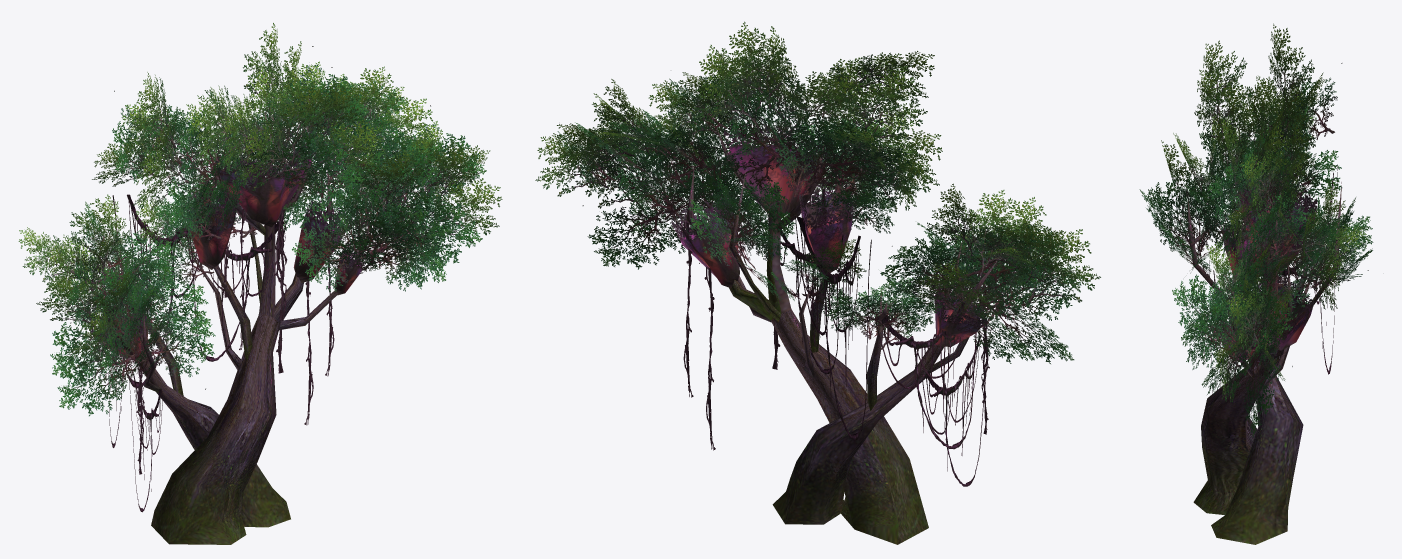
File: yw_huanghunbianjing_dashu01.FBX
3 views of the same model, side by side, from view 1: azimuth 30°, elevation 25°; view 2: azimuth 150°, elevation 25°; view 3: azimuth 270°, elevation 25° (orthographic). The views are drawn at different scales.
Parts seen in each view (by area): view 1: yw_huanghunbianjing_dashu01; view 2: yw_huanghunbianjing_dashu01; view 3: yw_huanghunbianjing_dashu01.
Boxes of the visible parts, left/top/right/bottom form: yw_huanghunbianjing_dashu01: left=18, top=23, right=502, bottom=544; yw_huanghunbianjing_dashu01: left=535, top=21, right=1100, bottom=544; yw_huanghunbianjing_dashu01: left=1139, top=23, right=1373, bottom=544.
Bounding box in the file's own units: 2071 × 1911 × 910.
